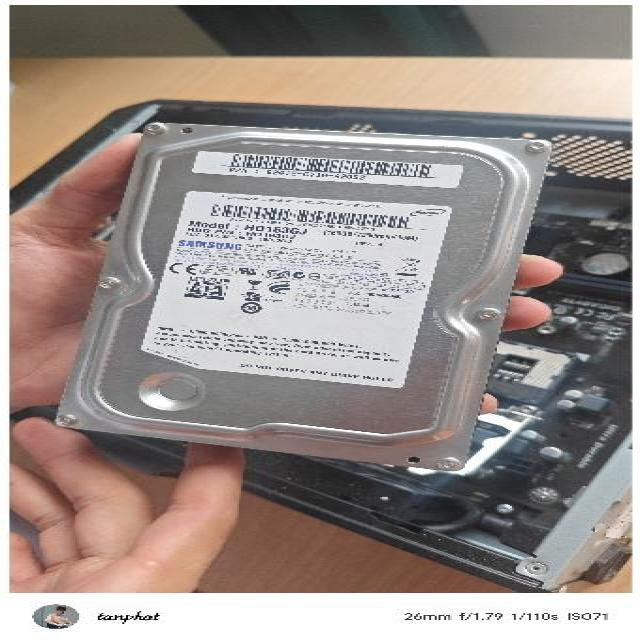DISK: (51, 120, 557, 468)
